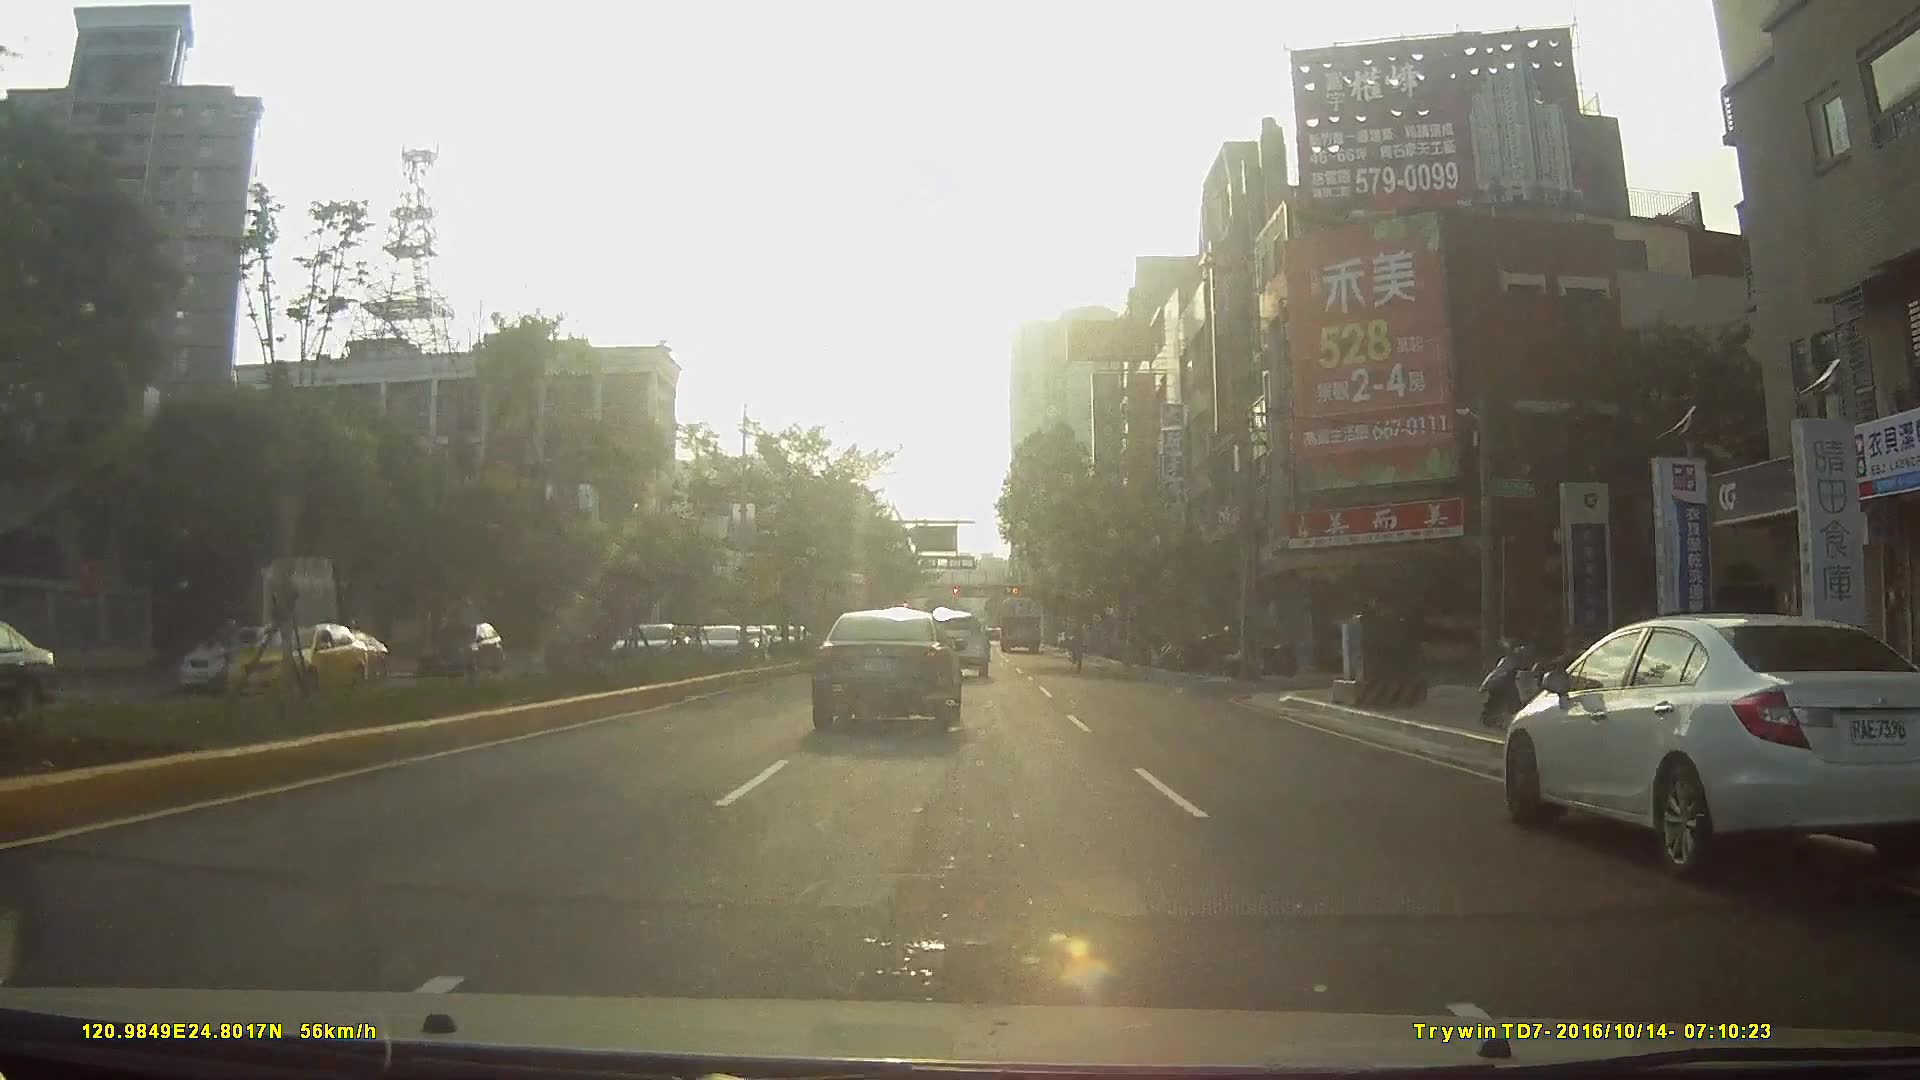vehicle: (1490, 608, 1920, 880), (810, 608, 964, 735), (186, 609, 378, 709), (173, 621, 289, 691), (1, 615, 61, 720), (916, 603, 992, 675), (291, 622, 382, 678), (413, 620, 501, 674), (609, 618, 690, 675), (997, 589, 1042, 649), (687, 622, 746, 665), (616, 620, 657, 657)
